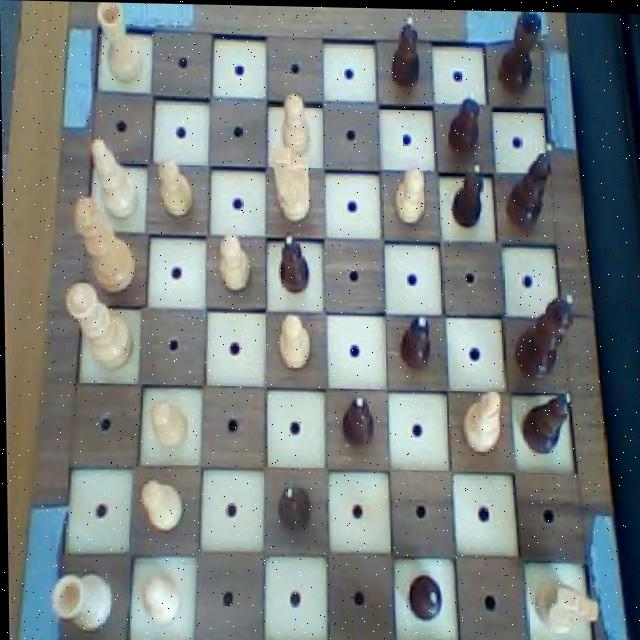bishop: (503, 135, 559, 229), (518, 386, 575, 455)
black-bishop: (511, 284, 579, 384)
black-knight: (386, 10, 427, 89), (442, 84, 482, 161), (402, 565, 449, 625), (448, 159, 488, 227), (392, 307, 433, 373), (276, 229, 313, 297), (273, 477, 315, 536), (337, 389, 377, 448)
black-queen: (494, 9, 544, 95)
black-rook: (86, 134, 138, 222), (457, 382, 505, 454)
white-bishop: (68, 192, 136, 296)
white-king: (528, 567, 602, 634), (268, 140, 319, 225)
white-knight: (133, 470, 185, 538), (152, 150, 198, 220), (388, 157, 433, 225), (214, 227, 254, 296), (134, 570, 182, 624), (146, 395, 189, 454), (275, 309, 314, 373), (278, 87, 313, 156)
white-pawn: (63, 278, 138, 376)
white-queen: (90, 2, 148, 86), (48, 565, 113, 630)
